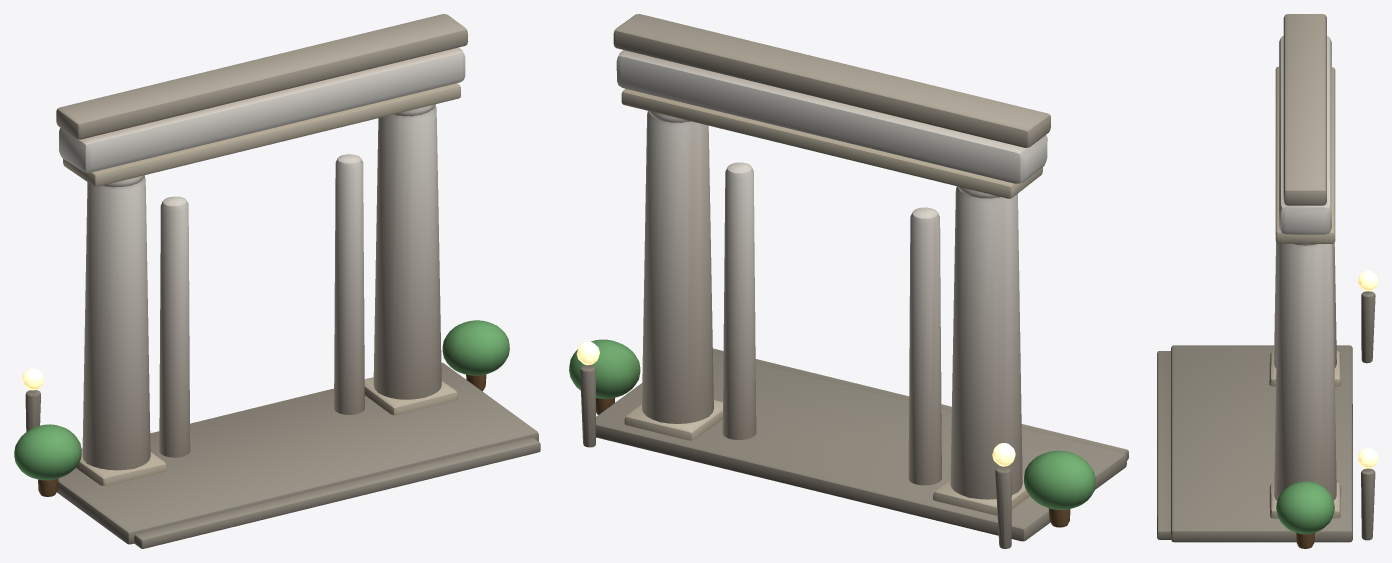
The picture shows the model from 3 angles, left to right: view 1: azimuth 30°, elevation 25°; view 2: azimuth 150°, elevation 25°; view 3: azimuth 270°, elevation 25°; orthographic projection. The views are drawn at different scales.
Visible parts, largest first — view 1: gate_ba7d9ff1; view 2: gate_ba7d9ff1; view 3: gate_ba7d9ff1.
Part boxes in pixels (x1=…): gate_ba7d9ff1: x1=14, y1=14, x2=540, y2=548; gate_ba7d9ff1: x1=569, y1=14, x2=1128, y2=548; gate_ba7d9ff1: x1=1157, y1=14, x2=1377, y2=548.
Bounding box in the file's own units: 6.05 × 4.45 × 2.55.
